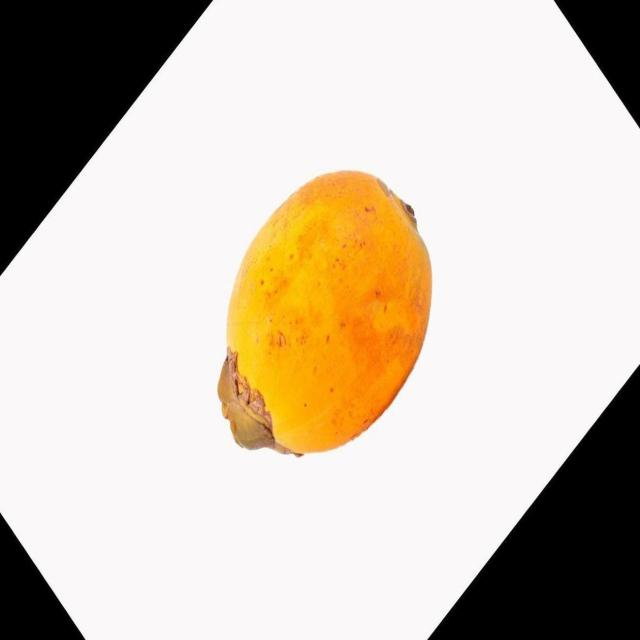good: (217, 171, 433, 458)
